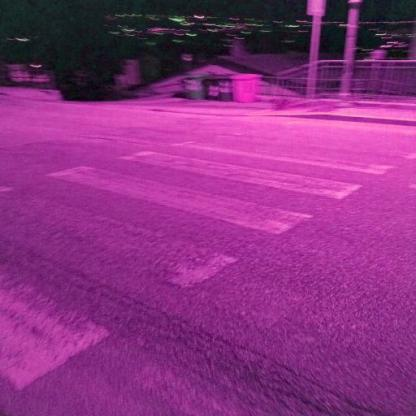crosswalk: (31, 146, 364, 238)
